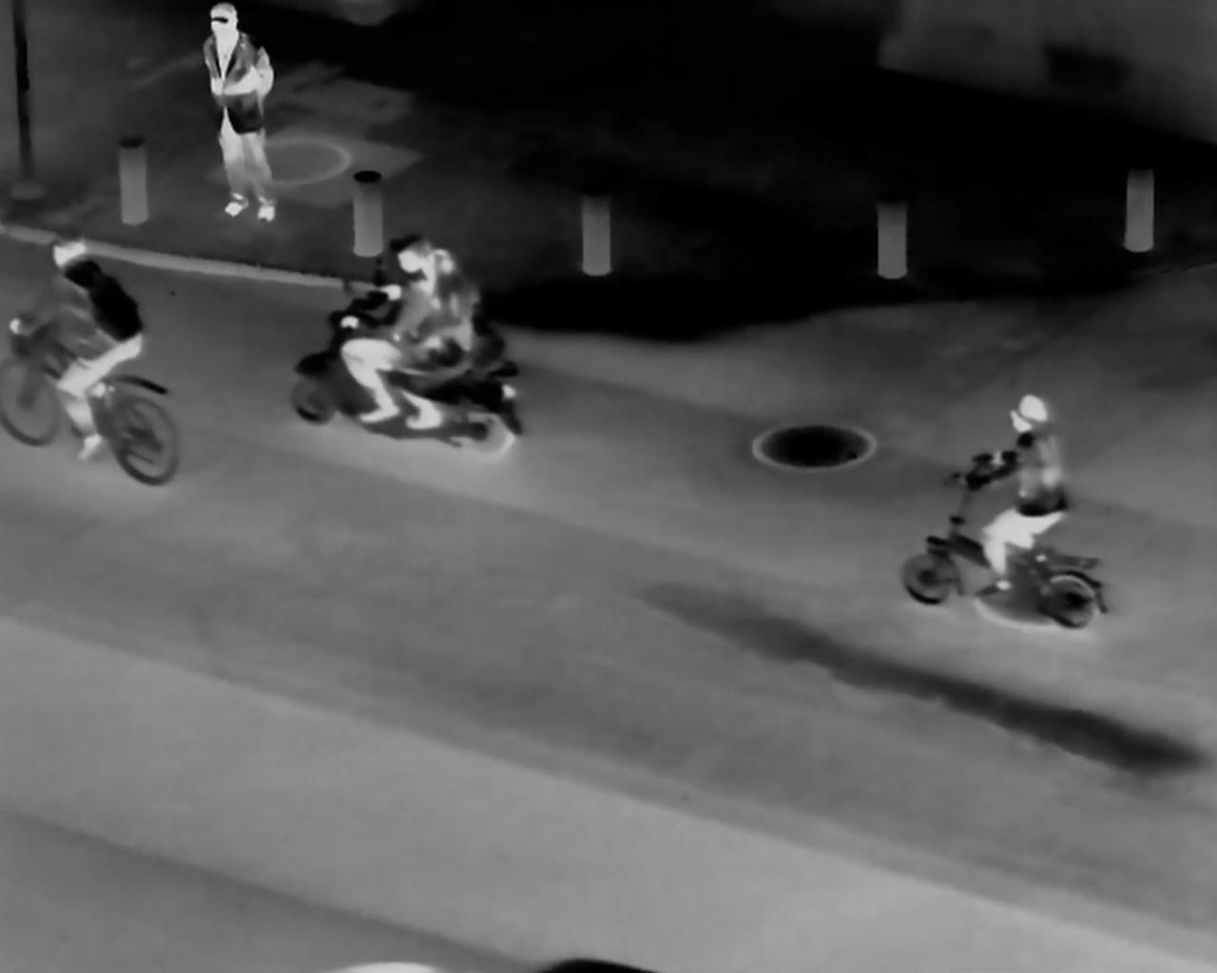person: (30, 231, 146, 475), (187, 2, 291, 229), (961, 384, 1070, 599), (353, 225, 430, 429), (402, 253, 473, 428)
